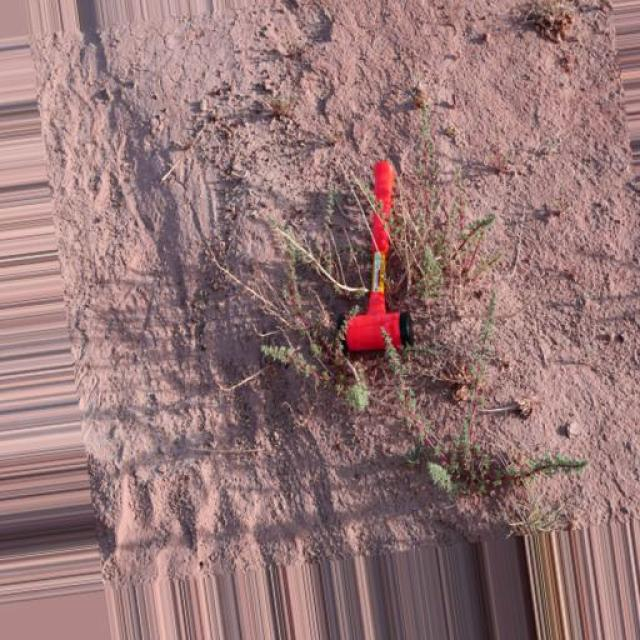mallet: (344, 158, 416, 354)
